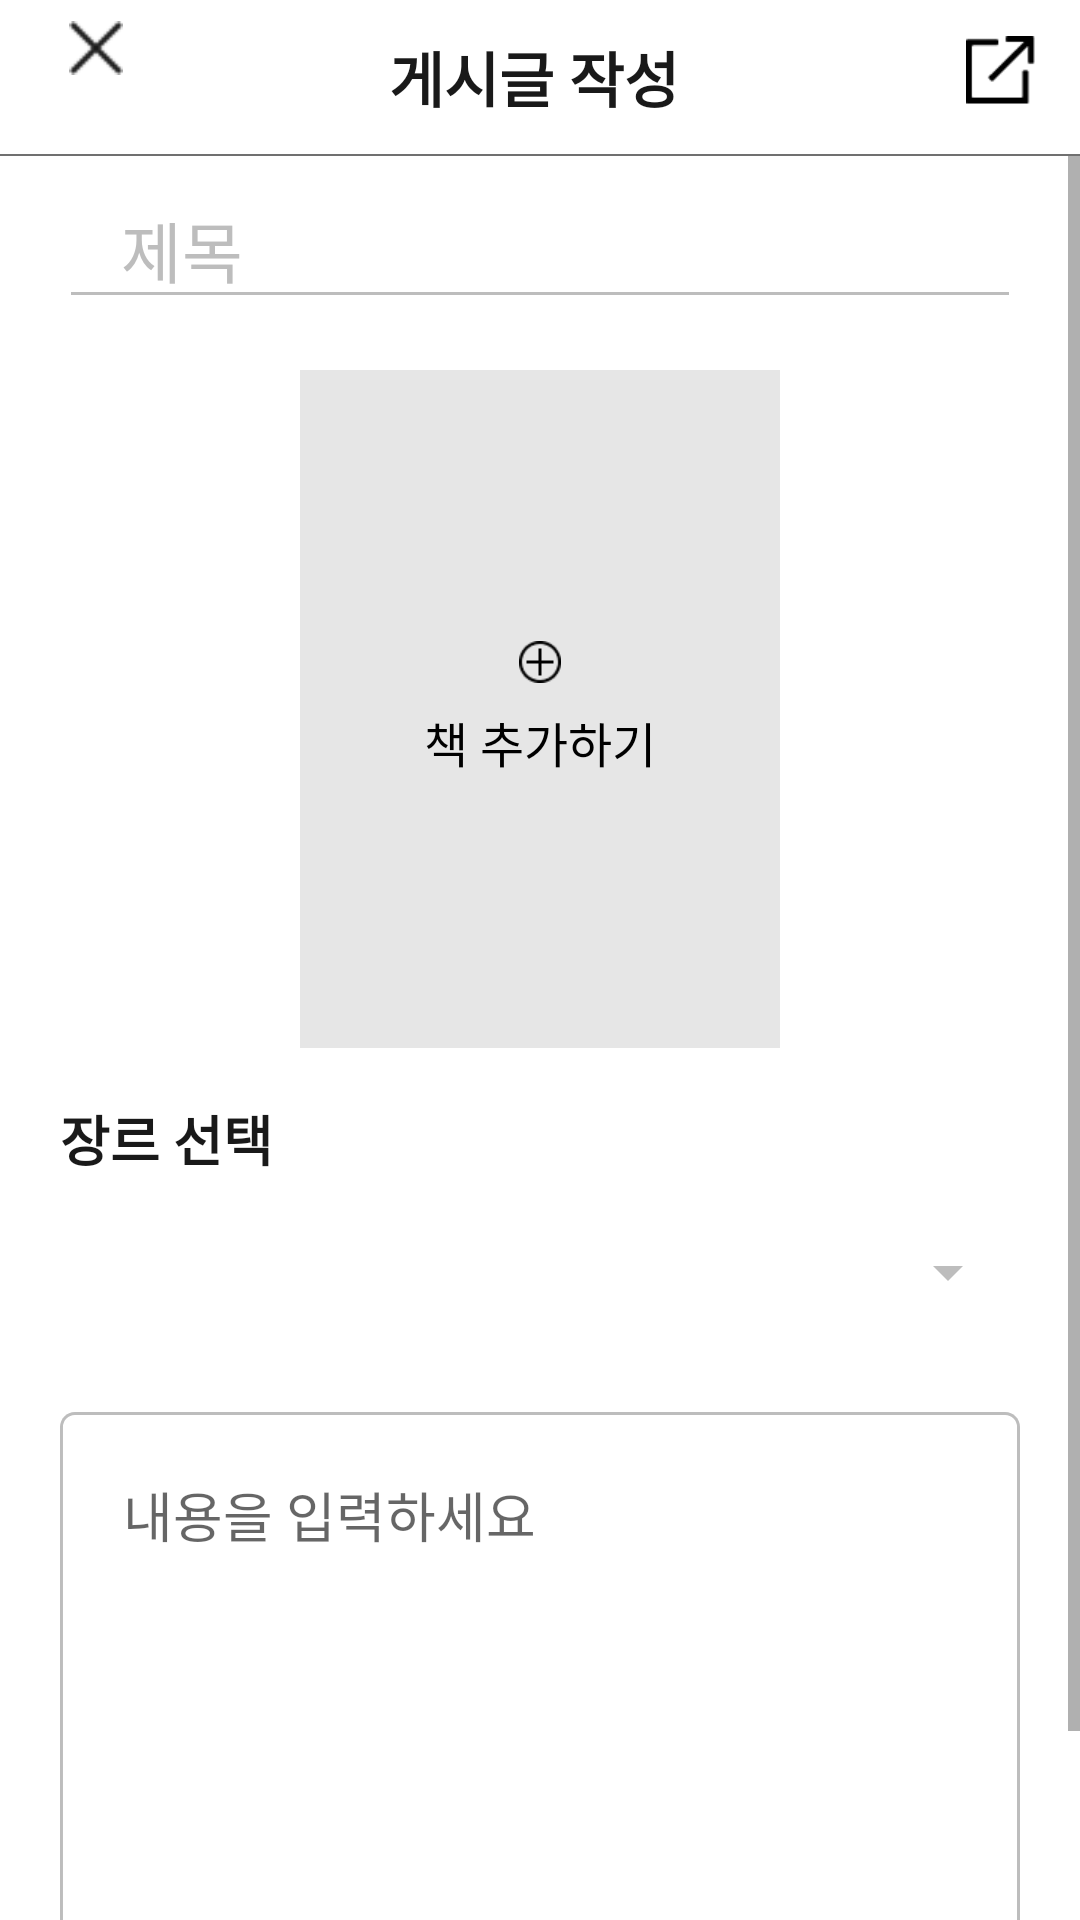

Named icons in this screenshot (1080*1920) and their centers, (x=x, y=y):
add: (x=540, y=662)
